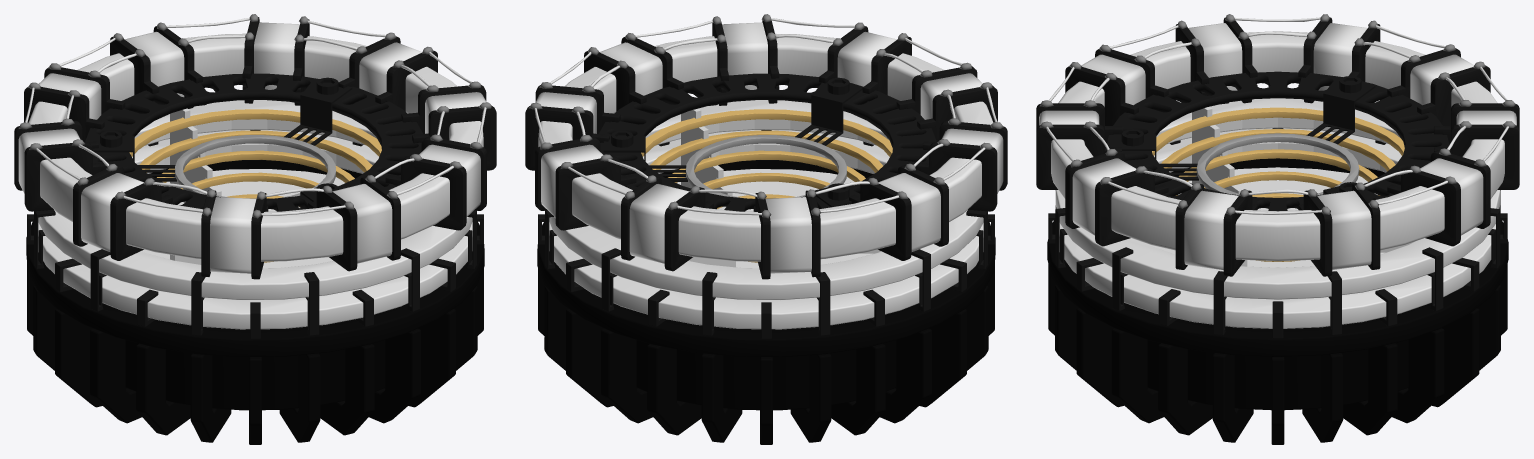
The model's file is ArcV3.fbx.
The picture shows the model from 3 angles, left to right: view 1: azimuth 30°, elevation 25°; view 2: azimuth 150°, elevation 25°; view 3: azimuth 270°, elevation 25°; orthographic projection.
Visible parts, largest first — view 1: BottomPieces_HP, InnerGlas_HP, TeslaRing_HP, Bottom_HP, BigGlas_HP, Wires_HP, InnerMetalWithHoles_HP, BigClip_HP, MetalHolders_HP, Plumb_HP, LittleClip_HP, GoldRing01.004_HP (+9 smaller); view 2: BottomPieces_HP, InnerGlas_HP, TeslaRing_HP, Bottom_HP, BigGlas_HP, Wires_HP, InnerMetalWithHoles_HP, BigClip_HP, MetalHolders_HP, Plumb_HP, LittleClip_HP, GoldRing01.004_HP (+9 smaller); view 3: BottomPieces_HP, InnerGlas_HP, TeslaRing_HP, Bottom_HP, BigGlas_HP, Wires_HP, InnerMetalWithHoles_HP, BigClip_HP, MetalHolders_HP, Plumb_HP, LittleClip_HP, GoldRing01.004_HP (+9 smaller).
Boxes of the visible parts, x1,y1,x2,y2 form: BottomPieces_HP: (27, 264, 483, 444); InnerGlas_HP: (38, 100, 472, 329); TeslaRing_HP: (14, 17, 496, 279); Bottom_HP: (26, 160, 484, 410); BigGlas_HP: (28, 33, 483, 261); Wires_HP: (18, 22, 486, 273); InnerMetalWithHoles_HP: (85, 73, 422, 211); BigClip_HP: (34, 104, 476, 335); MetalHolders_HP: (92, 83, 352, 209); Plumb_HP: (18, 14, 492, 218); LittleClip_HP: (27, 130, 483, 338); GoldRing01.004_HP: (129, 109, 381, 156); BottomPieces_HP: (538, 264, 994, 444); InnerGlas_HP: (549, 100, 983, 329); TeslaRing_HP: (525, 20, 1007, 279); Bottom_HP: (537, 160, 995, 410); BigGlas_HP: (538, 33, 993, 261); Wires_HP: (535, 22, 1003, 273); InnerMetalWithHoles_HP: (599, 73, 936, 211); BigClip_HP: (545, 104, 987, 335); MetalHolders_HP: (603, 83, 862, 207); Plumb_HP: (529, 14, 1003, 218); LittleClip_HP: (538, 130, 994, 338); GoldRing01.004_HP: (641, 109, 892, 156); BottomPieces_HP: (1048, 264, 1507, 444); InnerGlas_HP: (1055, 98, 1500, 328); TeslaRing_HP: (1036, 17, 1519, 276); Bottom_HP: (1047, 158, 1508, 410); BigGlas_HP: (1051, 31, 1504, 261); Wires_HP: (1039, 23, 1516, 269); InnerMetalWithHoles_HP: (1107, 71, 1449, 211); BigClip_HP: (1055, 102, 1500, 335); MetalHolders_HP: (1114, 82, 1375, 199); Plumb_HP: (1039, 14, 1516, 215); LittleClip_HP: (1048, 128, 1507, 338); GoldRing01.004_HP: (1152, 107, 1404, 155).
Bounding box in the file's own units: 312 × 184 × 316.
